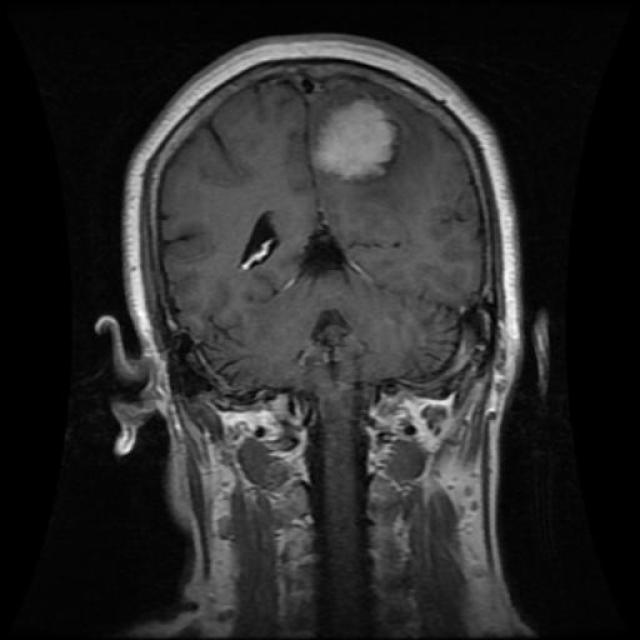meningioma: (318, 102, 392, 174)
